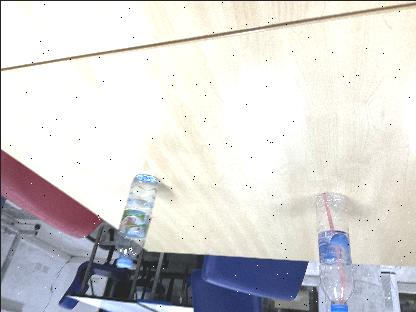Plastic Bottle: (314, 191, 354, 312), (114, 171, 158, 266)
